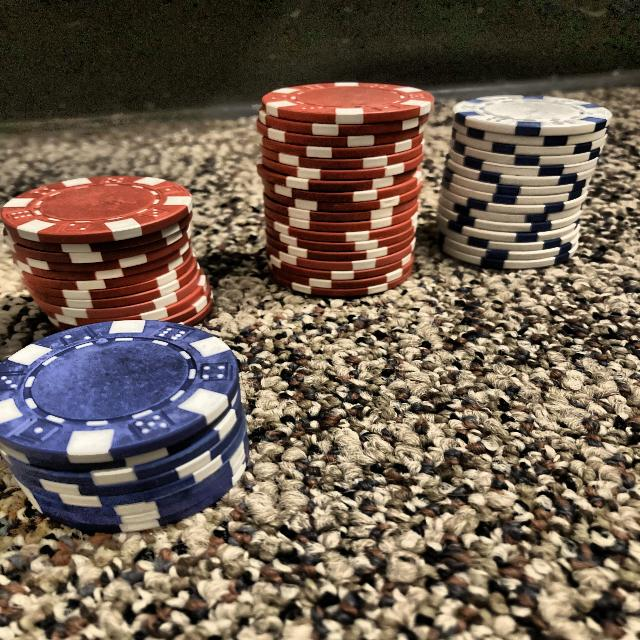Chip: (0, 300, 247, 528), (246, 49, 440, 312), (428, 71, 617, 287), (14, 147, 222, 336)
